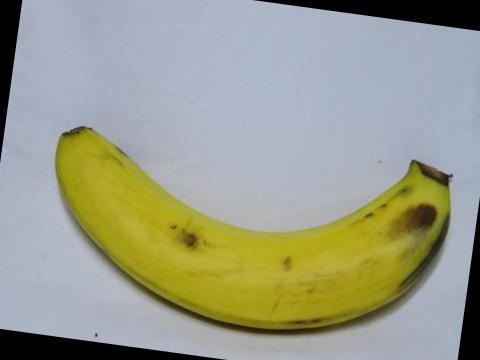freshripe: (37, 107, 461, 342)
